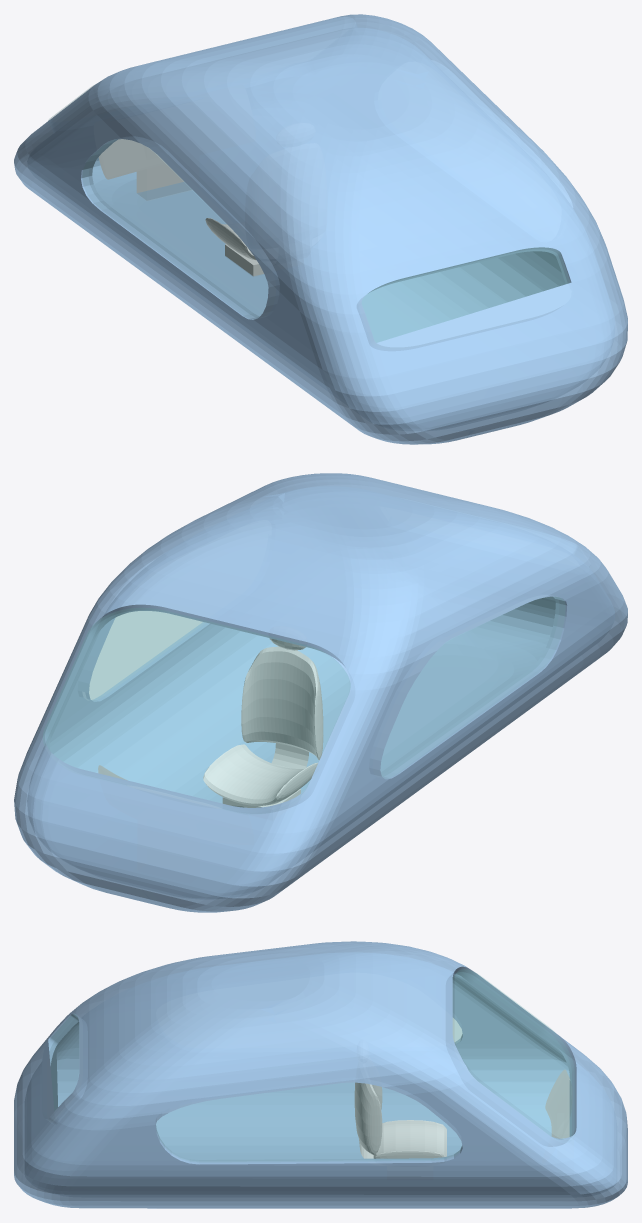
The model's file is капсула4.fbx.
3 views of the same model, one above another, from view 1: azimuth 30°, elevation 25°; view 2: azimuth 150°, elevation 25°; view 3: azimuth 270°, elevation 25° (orthographic). The views are drawn at different scales.
Parts seen in each view (by area): view 1: Circle, Cube.004, Cube.007, Circle.003, Cube.002, Circle.001; view 2: Circle, Cube.006, Cube.004, Circle.002, Cube.005, Circle.001, Plane; view 3: Circle, Cube.005, Cube.006, Circle.001, Cube.007, Circle.002, Circle.003.
Boxes of the visible parts, <box> form: Circle: <box>14,14,627,444</box>; Cube.004: <box>82,139,268,318</box>; Cube.007: <box>362,247,569,342</box>; Circle.003: <box>99,139,165,178</box>; Cube.002: <box>137,164,183,192</box>; Circle.001: <box>205,218,256,260</box>; Circle: <box>14,473,627,912</box>; Cube.006: <box>43,608,350,807</box>; Cube.004: <box>380,597,565,778</box>; Circle.002: <box>241,646,323,760</box>; Cube.005: <box>89,611,202,699</box>; Circle.001: <box>203,744,317,805</box>; Plane: <box>271,743,308,768</box>; Circle: <box>14,941,627,1208</box>; Cube.005: <box>156,1082,461,1161</box>; Cube.006: <box>453,969,573,1139</box>; Circle.001: <box>373,1120,446,1158</box>; Cube.007: <box>49,1014,78,1110</box>; Circle.002: <box>354,1082,382,1154</box>; Circle.003: <box>546,1070,569,1137</box>.
Size of the model in its own units: 400 by 315 by 854.
